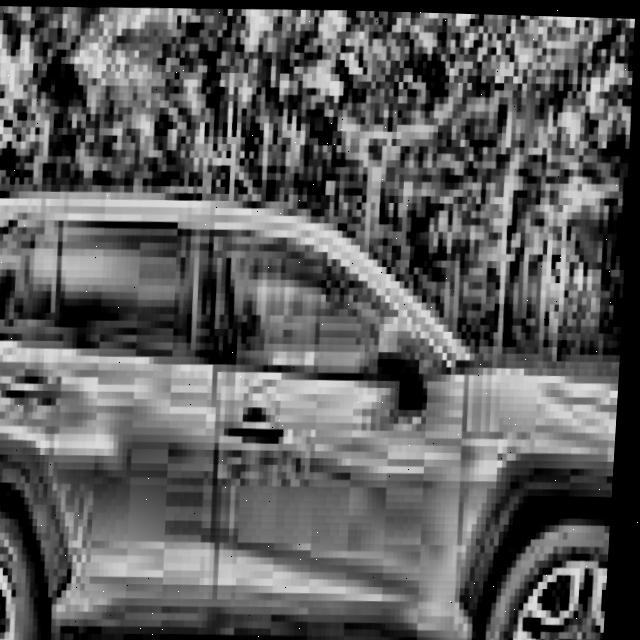light_vehicle: (0, 172, 632, 640)
